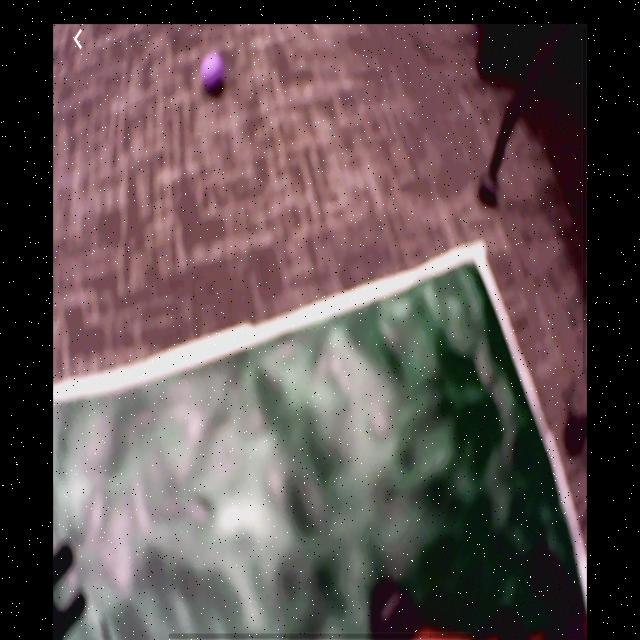ball: (200, 52, 227, 97)
